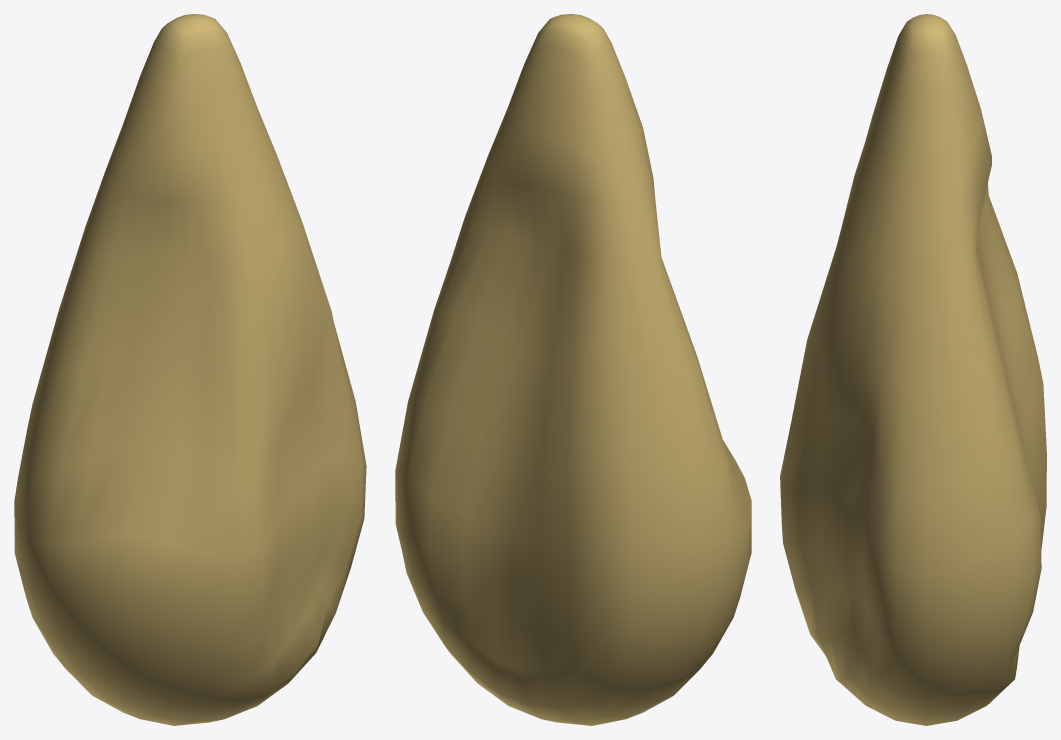
Rendered from Orange_Seed_Model.fbx.
3 renders of one model, left to right at view 1: azimuth 30°, elevation 25°; view 2: azimuth 150°, elevation 25°; view 3: azimuth 270°, elevation 25°, orthographic.
Parts seen in each view (by area): view 1: Orange_Seed; view 2: Orange_Seed; view 3: Orange_Seed.
Part boxes in pixels (x1=…): Orange_Seed: x1=14, y1=14, x2=366, y2=725; Orange_Seed: x1=395, y1=14, x2=751, y2=725; Orange_Seed: x1=780, y1=14, x2=1046, y2=725.
Bounding box in the file's own units: 0.1406 × 0.2876 × 0.1003.
